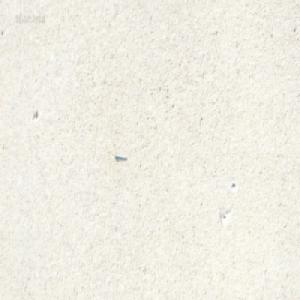Nail: (113, 151, 126, 160)
